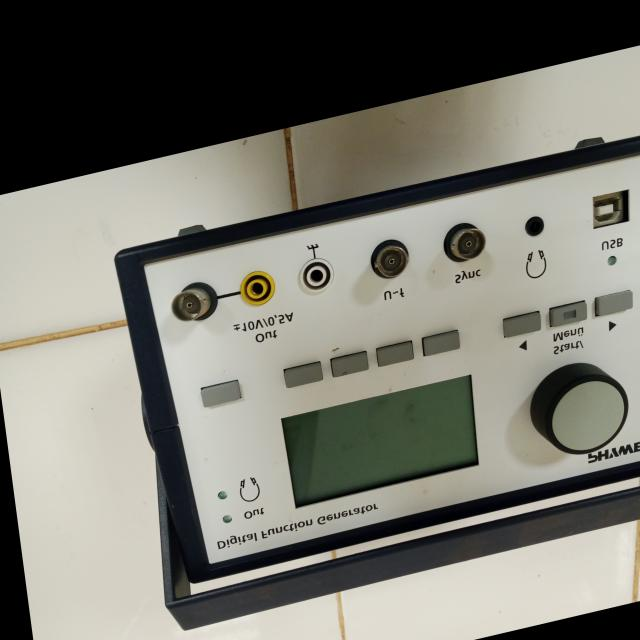Digital Function Generator: (94, 89, 640, 640)
